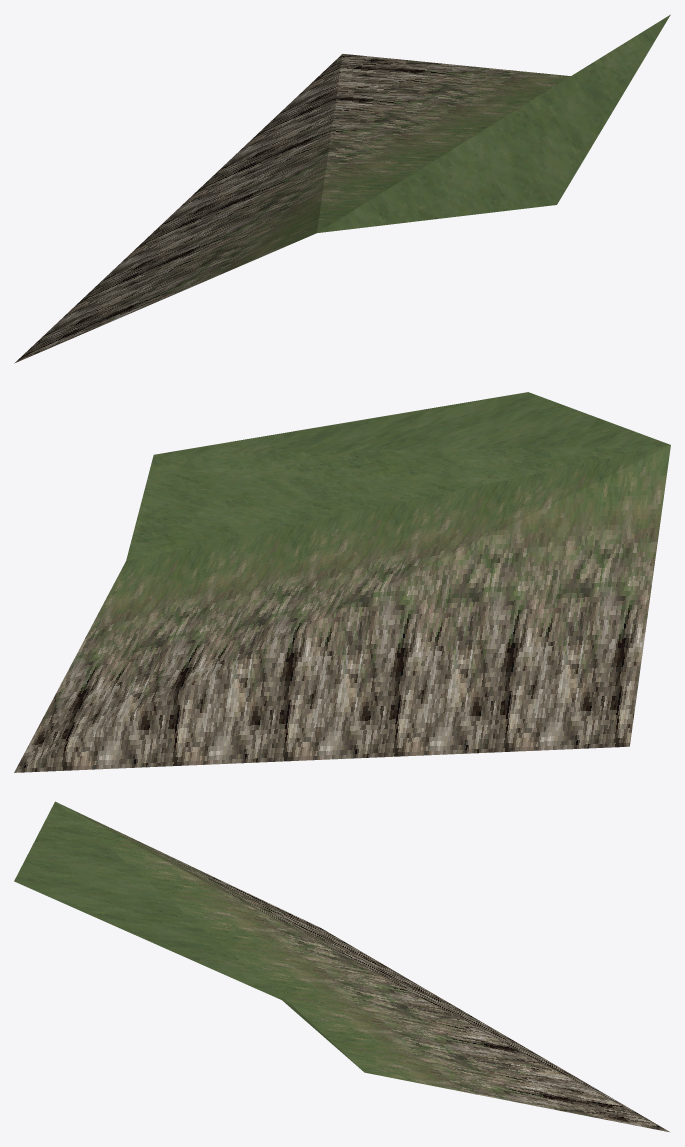
The model's file is LODa_carisle_mid_landmass_02_10.fbx.
3 renders of one model, top to bottom at view 1: azimuth 30°, elevation 25°; view 2: azimuth 150°, elevation 25°; view 3: azimuth 270°, elevation 25°, orthographic. The views are drawn at different scales.
Parts seen in each view (by area): view 1: LODa_carisle_mid_landmass_02_10; view 2: LODa_carisle_mid_landmass_02_10; view 3: LODa_carisle_mid_landmass_02_10.
Boxes of the visible parts, left/top/right/bottom form: LODa_carisle_mid_landmass_02_10: left=14, top=14, right=670, bottom=363; LODa_carisle_mid_landmass_02_10: left=14, top=392, right=670, bottom=772; LODa_carisle_mid_landmass_02_10: left=14, top=801, right=669, bottom=1132.
Size of the model in its own units: 12.85 by 15.39 by 4.44.
